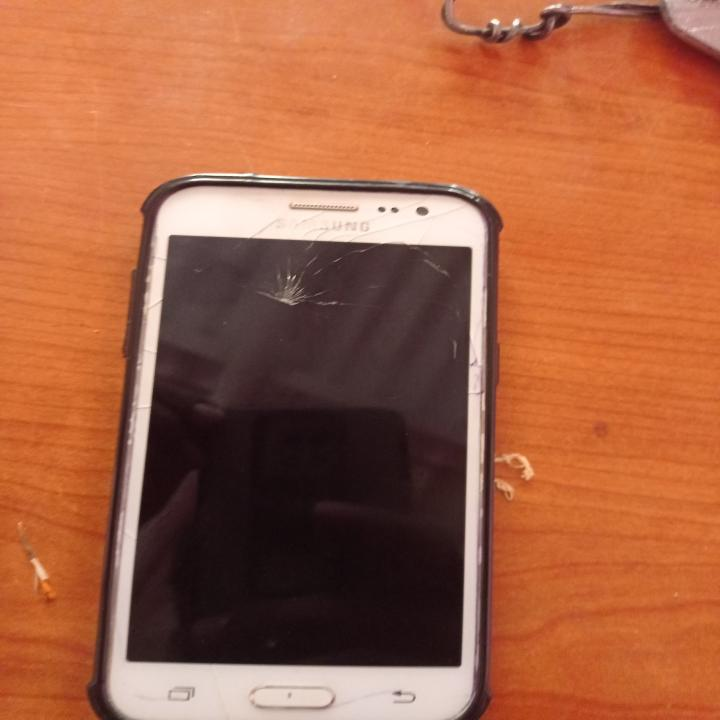Crack: (221, 239, 378, 325)
